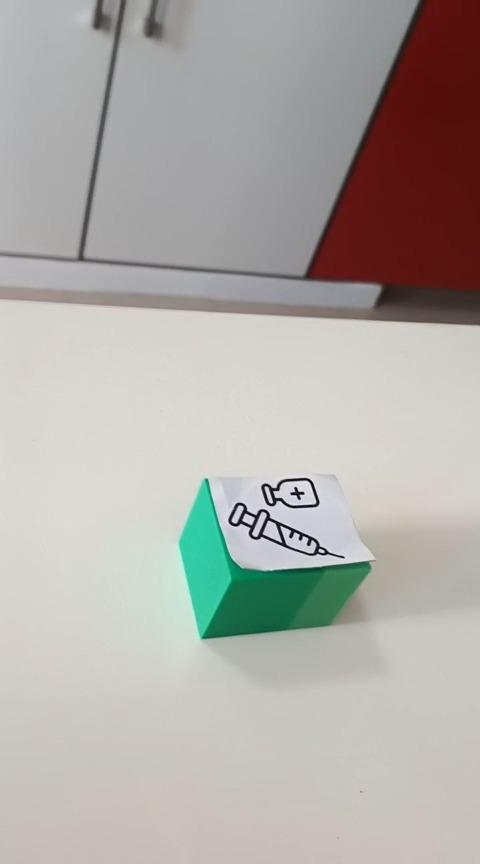antiseptic cream: (177, 471, 376, 639)
